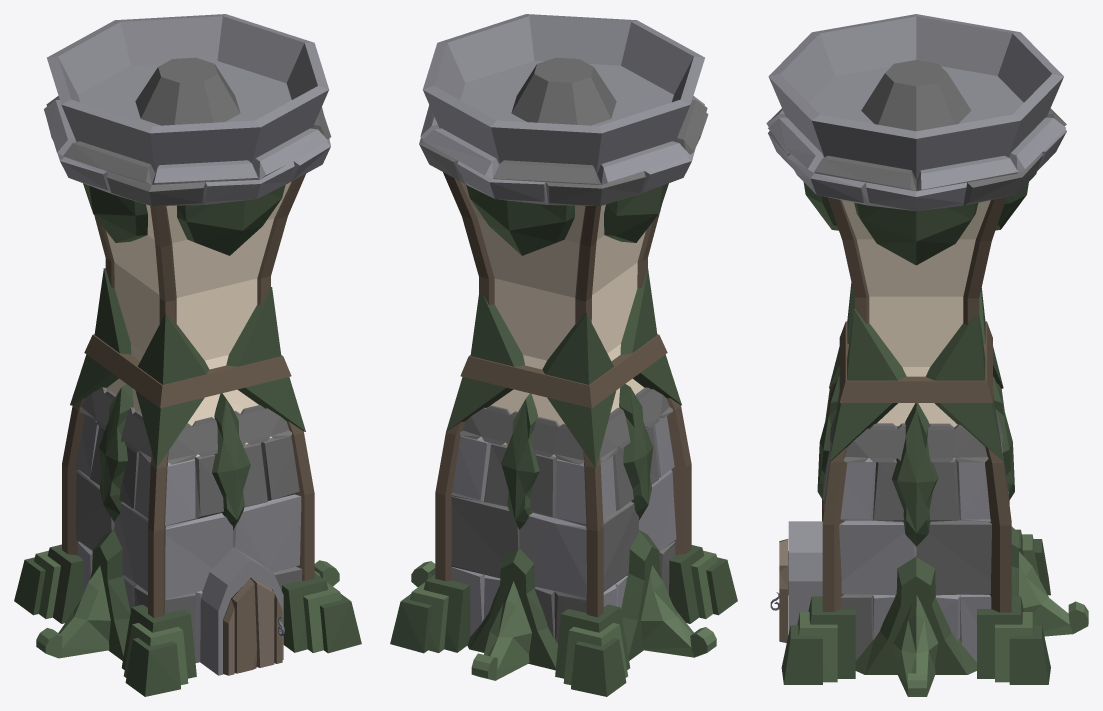
Rendered from Canon_tower_LVL_3_Body.fbx.
3 renders of one model, left to right at view 1: azimuth 30°, elevation 25°; view 2: azimuth 150°, elevation 25°; view 3: azimuth 270°, elevation 25°, orthographic.
Visible parts, largest first — view 1: Cannon_tower_LVL_3; view 2: Cannon_tower_LVL_3; view 3: Cannon_tower_LVL_3.
Part boxes in pixels (left/top/right/bottom): Cannon_tower_LVL_3: left=14, top=14, right=361, bottom=696; Cannon_tower_LVL_3: left=390, top=14, right=737, bottom=696; Cannon_tower_LVL_3: left=766, top=14, right=1088, bottom=696.
Size of the model in its own units: 690 by 1235 by 646.
